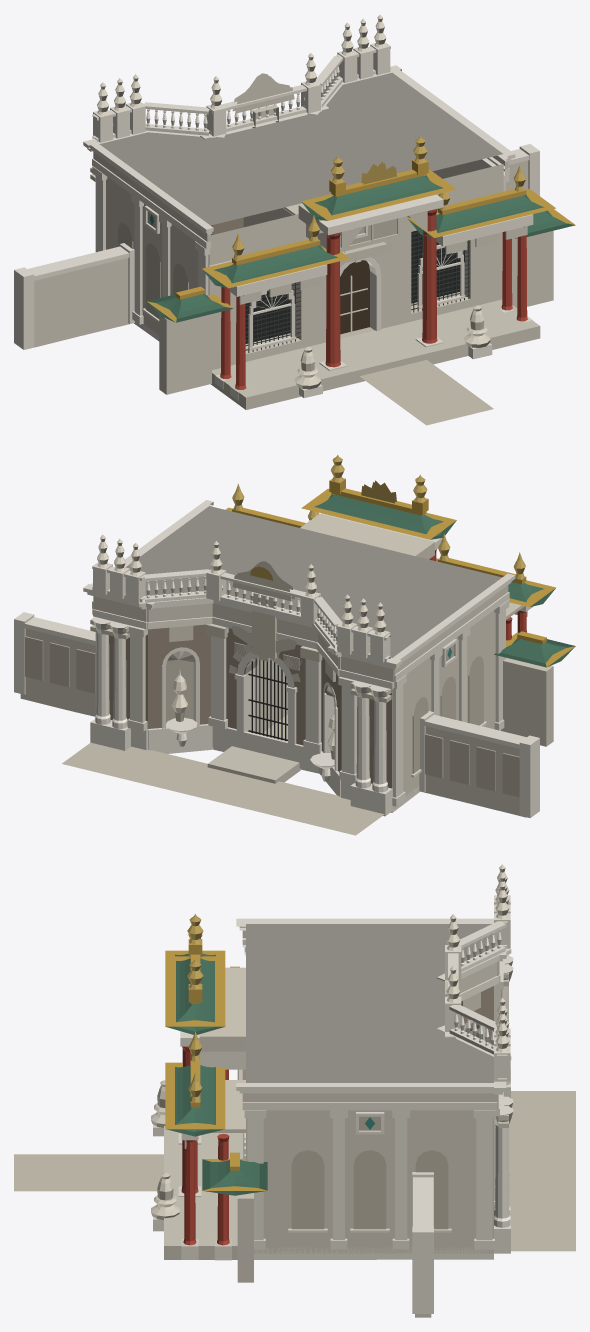
3 views of the same model, one above another, from view 1: azimuth 30°, elevation 25°; view 2: azimuth 150°, elevation 25°; view 3: azimuth 270°, elevation 25° (orthographic). The views are drawn at different scales.
Parts seen in each view (by area): view 1: XY05 养雀笼 Yangque Long; view 2: XY05 养雀笼 Yangque Long; view 3: XY05 养雀笼 Yangque Long.
Boxes of the visible parts, x1,y1,x2,y2 form: XY05 养雀笼 Yangque Long: [14, 14, 575, 425]; XY05 养雀笼 Yangque Long: [14, 454, 575, 835]; XY05 养雀笼 Yangque Long: [14, 864, 575, 1317].
Size of the model in its own units: 24.4 by 9.88 by 20.6.
